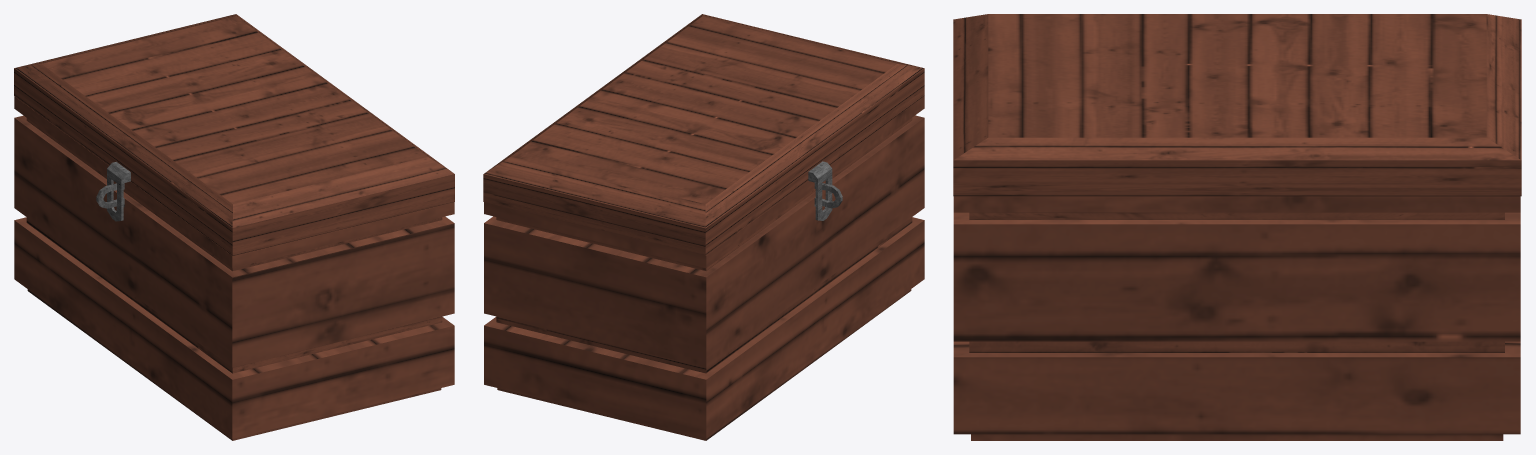
The picture shows the model from 3 angles, left to right: view 1: azimuth 30°, elevation 25°; view 2: azimuth 150°, elevation 25°; view 3: azimuth 270°, elevation 25°; orthographic projection. The views are drawn at different scales.
Visible parts, largest first — view 1: Main, Top; view 2: Main, Top; view 3: Main, Top.
Part boxes in pixels (<box>): Main: <box>14,96,454,440</box>; Top: <box>14,14,454,255</box>; Main: <box>484,96,924,440</box>; Top: <box>483,14,924,255</box>; Main: <box>953,196,1520,440</box>; Top: <box>953,14,1521,196</box>.
Bounding box in the file's own units: 2.24 × 1.98 × 3.41.
